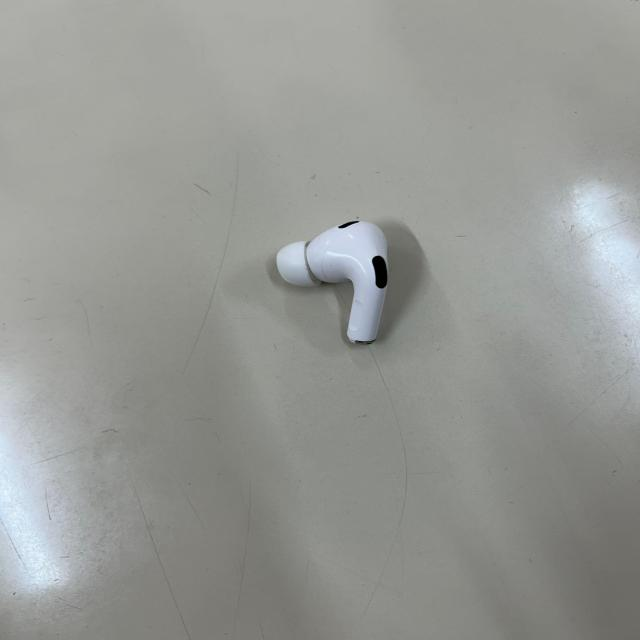inorganic: (276, 221, 392, 347)
